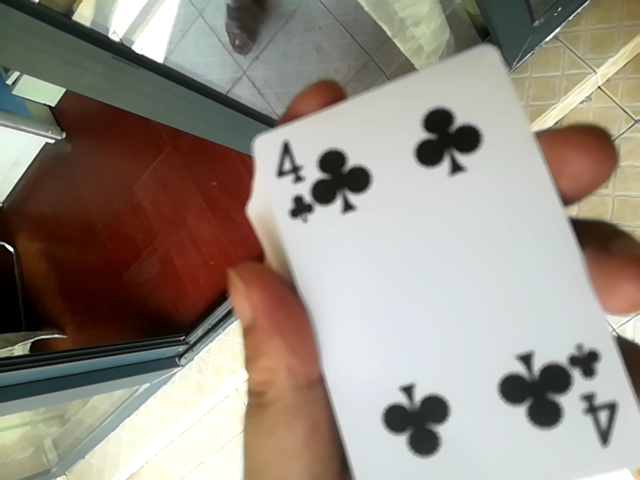mh 4: (232, 34, 636, 479)
